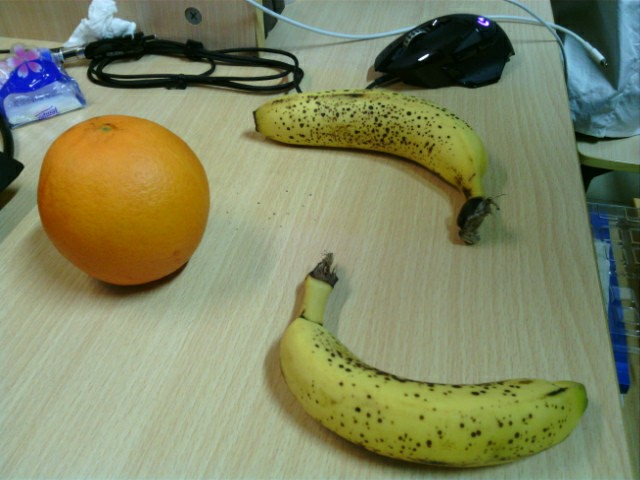normal_banana: (278, 252, 590, 464), (254, 89, 499, 247)
normal_orange: (39, 115, 210, 282)
